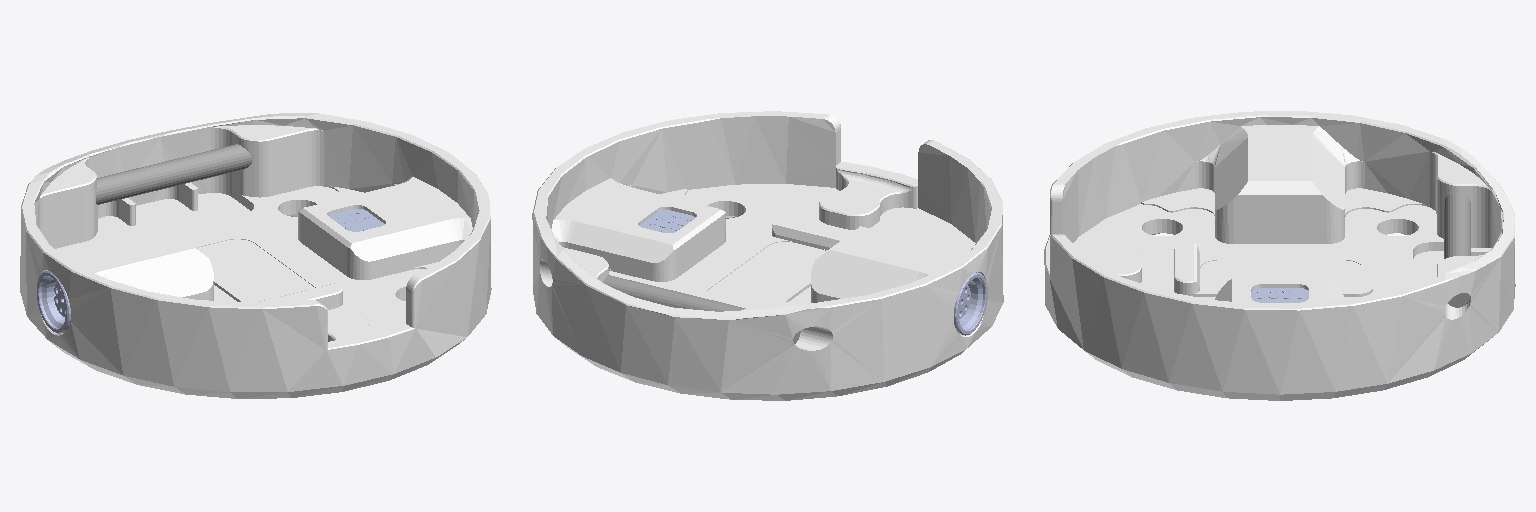
robot.urdf — sg-b:
<?xml version="1.0"?>
<!-- created with Phobos 1.0.1 "Capricious Choutengan" -->
  <robot name="sg-b">
    <link name="quick_change_robot_side">
      <inertial>
        <origin xyz="0 0 0" rpy="0 0 0"/>
        <mass value="0.001"/>
        <inertia ixx="0.001" ixy="0" ixz="0" iyy="0.001" iyz="0" izz="0.001"/>
      </inertial>
      <visual>
        <origin xyz="0 0 0" rpy="-1.5708 0 -1.5708"/>
        <geometry>
          <mesh filename="package://ur3e_irl_project/onrobot_sg/models/common/Quick_Changer_Robot Side_v2.dae" scale="1 1 1"/>
        </geometry>
        <material name="191,191,191"/>
      </visual>
      <collision>
        <origin xyz="0 0 0.008" rpy="0 0 0"/>
        <geometry>
          <cylinder length="0.015" radius="0.036"/>
        </geometry>
      </collision>
    </link>

    <link name="gripper">
      <inertial>
        <origin xyz="0 0 0" rpy="0 0 0"/>
        <mass value="0.001"/>
        <inertia ixx="0.001" ixy="0" ixz="0" iyy="0.001" iyz="0" izz="0.001"/>
      </inertial>
      <visual name="gripper">
        <origin xyz="0.0075 0.0055 0 " rpy="3.1415 -1.5708 0"/>
        <geometry>
          <mesh filename="package://ur3e_irl_project/onrobot_sg/models/onrobot_sg_b/meshes/SG-b_v1.dae" scale="1 1 1"/>
        </geometry>
        <material name="191,191,191"/>
      </visual>
      <collision>
        <origin xyz="0 0 0.05" rpy="0 0 0"/>
        <geometry>
          <cylinder length="0.115" radius="0.049"/>
        </geometry>
      </collision>
    </link>
    
   <joint name="quick_changer_to_gripper" type="fixed">
      <origin xyz="0 0 0.024" rpy="0 0 0"/>      
      <parent link="quick_change_robot_side"/>
      <child link="gripper"/>
    </joint>
    
  </robot>

--- Render facts (derived) ---
The picture shows the robot from 3 angles, left to right: view 1: azimuth 30°, elevation 25°; view 2: azimuth 150°, elevation 25°; view 3: azimuth 270°, elevation 25°; orthographic projection.
Model sg-b with 2 links and 1 joints (1 fixed), rooted at quick_change_robot_side, posed all joints at 0.
Links seen in each view (by area): view 1: quick_change_robot_side; view 2: quick_change_robot_side; view 3: quick_change_robot_side.
Boxes of the visible links, left/top/right/bottom form: quick_change_robot_side: left=20, top=113, right=491, bottom=398; quick_change_robot_side: left=532, top=111, right=1003, bottom=400; quick_change_robot_side: left=1044, top=111, right=1515, bottom=400.
Size in the robot's own frame: 0.071 by 0.0708 by 0.0161 metres.
1 mesh visuals loaded from 2 distinct referenced files (1 Collada DAE); not drawn: 1 (reference not matched to a file when rendering).